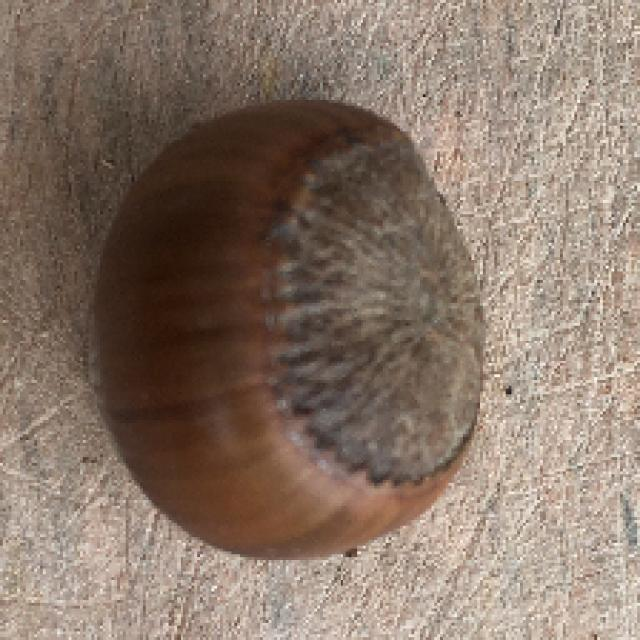qualityHazelnut: (90, 99, 495, 566)
